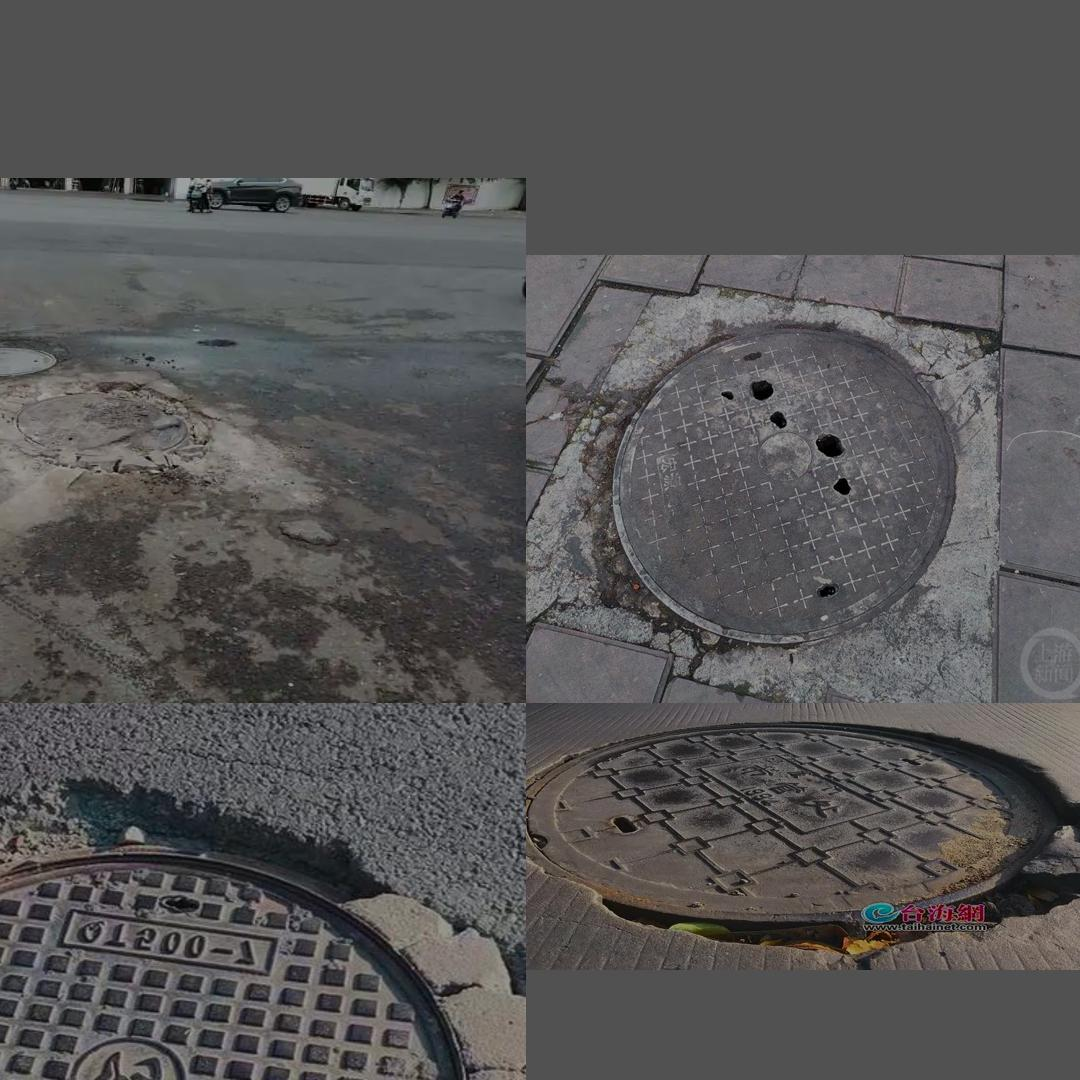circle: (539, 281, 1014, 692), (0, 799, 501, 1080), (540, 720, 1080, 958), (0, 372, 274, 519)
